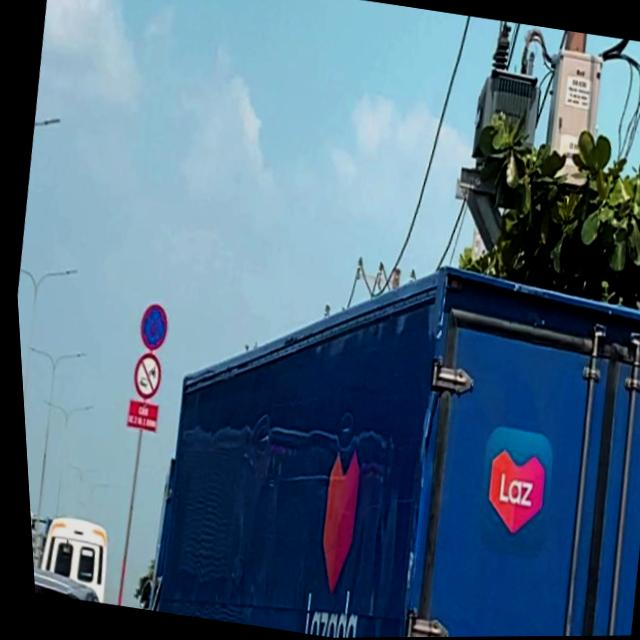Cam dung xe va do xe: (132, 301, 168, 353)
